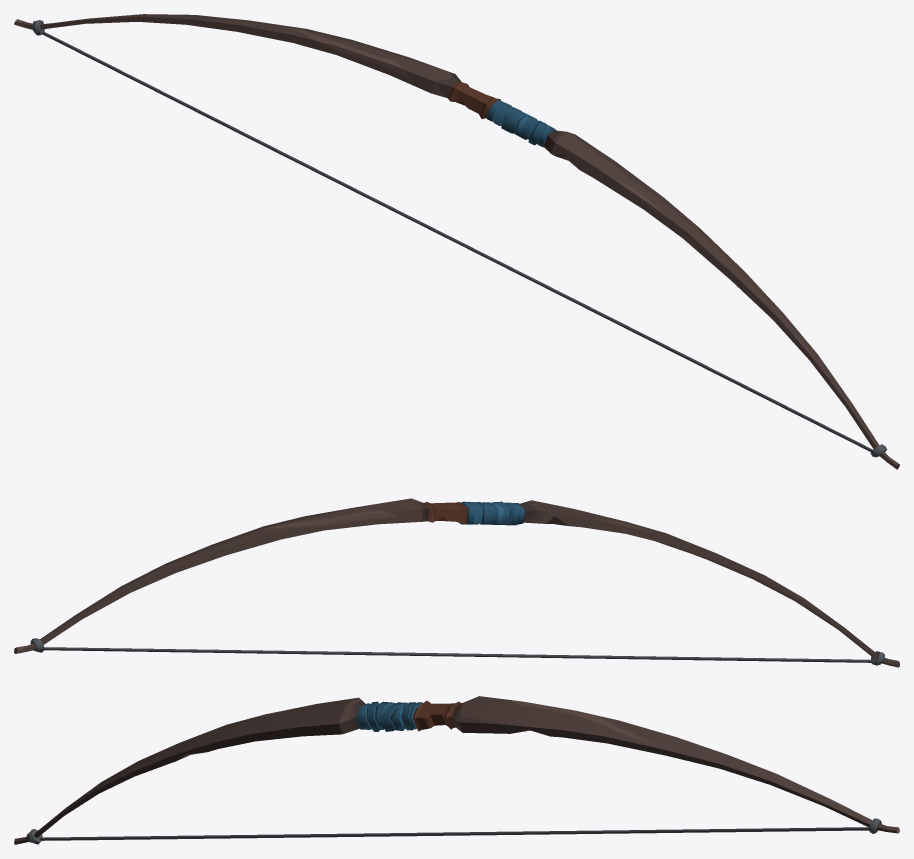
Rendered from bw-longbow-04.glb.
3 renders of one model, top to bottom at view 1: azimuth 90°, elevation 25°; view 2: azimuth 150°, elevation 25°; view 3: azimuth 270°, elevation 25°, orthographic.
Parts seen in each view (by area): view 1: bw-longbow-04; view 2: bw-longbow-04; view 3: bw-longbow-04.
Part boxes in pixels (x1=…): bw-longbow-04: x1=14, y1=14, x2=899, y2=469; bw-longbow-04: x1=14, y1=498, x2=899, y2=667; bw-longbow-04: x1=14, y1=696, x2=899, y2=844.
Bounding box in the file's own units: 1 × 0.5955 × 1.71.
1 material, 1 textured.
